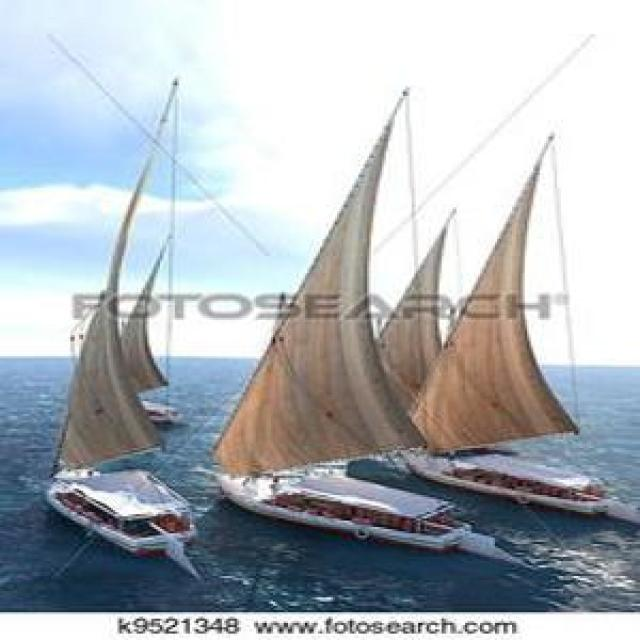navalvessels: (210, 86, 457, 546), (416, 131, 605, 512), (53, 68, 193, 550), (367, 199, 459, 425), (113, 234, 186, 424)
